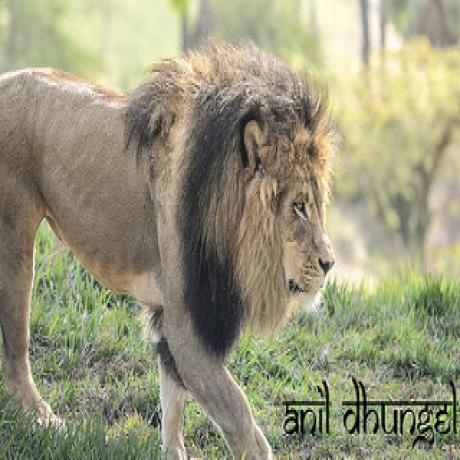Lion: (0, 34, 336, 460)
